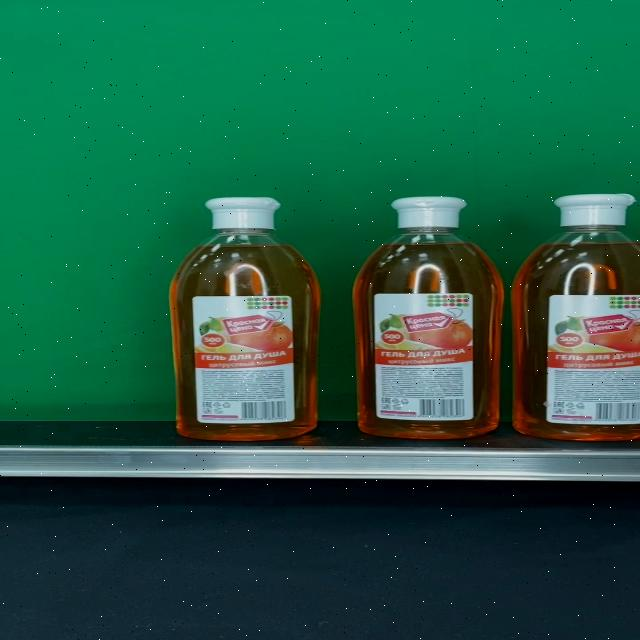Bottle: (169, 197, 322, 441), (353, 196, 505, 440), (511, 194, 640, 441)
Cap: (554, 193, 634, 227), (205, 197, 282, 230), (391, 196, 469, 228)
